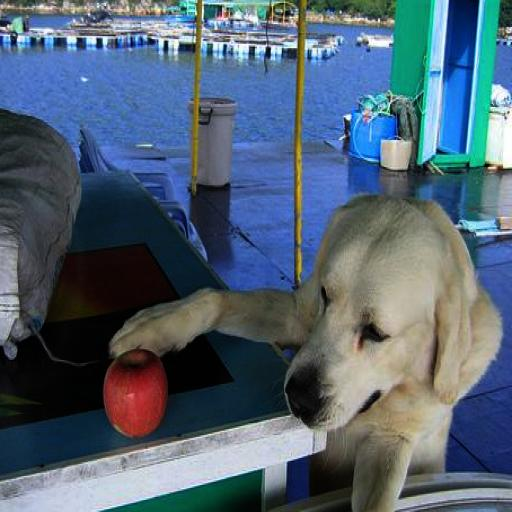dog_face: (303, 190, 494, 445)
